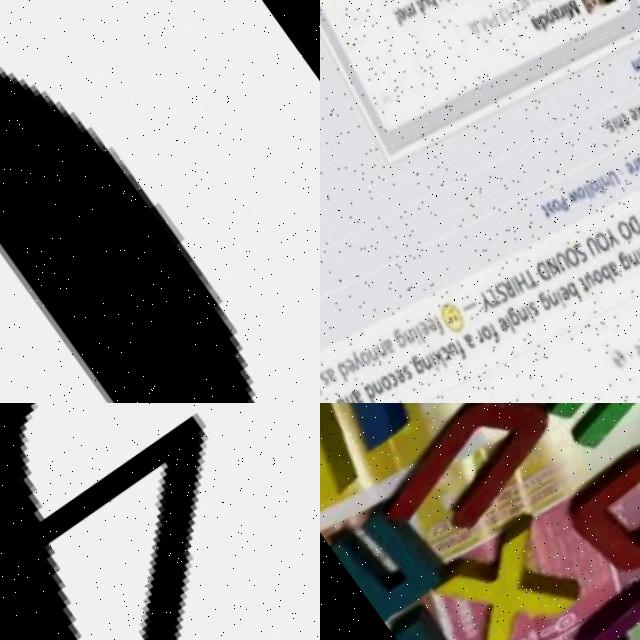0: (506, 4, 523, 23)
C: (0, 72, 244, 403)
F: (491, 403, 640, 472)
G: (539, 557, 640, 640)
M: (320, 486, 444, 630)
O: (540, 430, 640, 588)
R: (320, 403, 357, 522)
U: (359, 403, 567, 553)
V: (320, 403, 479, 459)
X: (407, 509, 583, 640)
